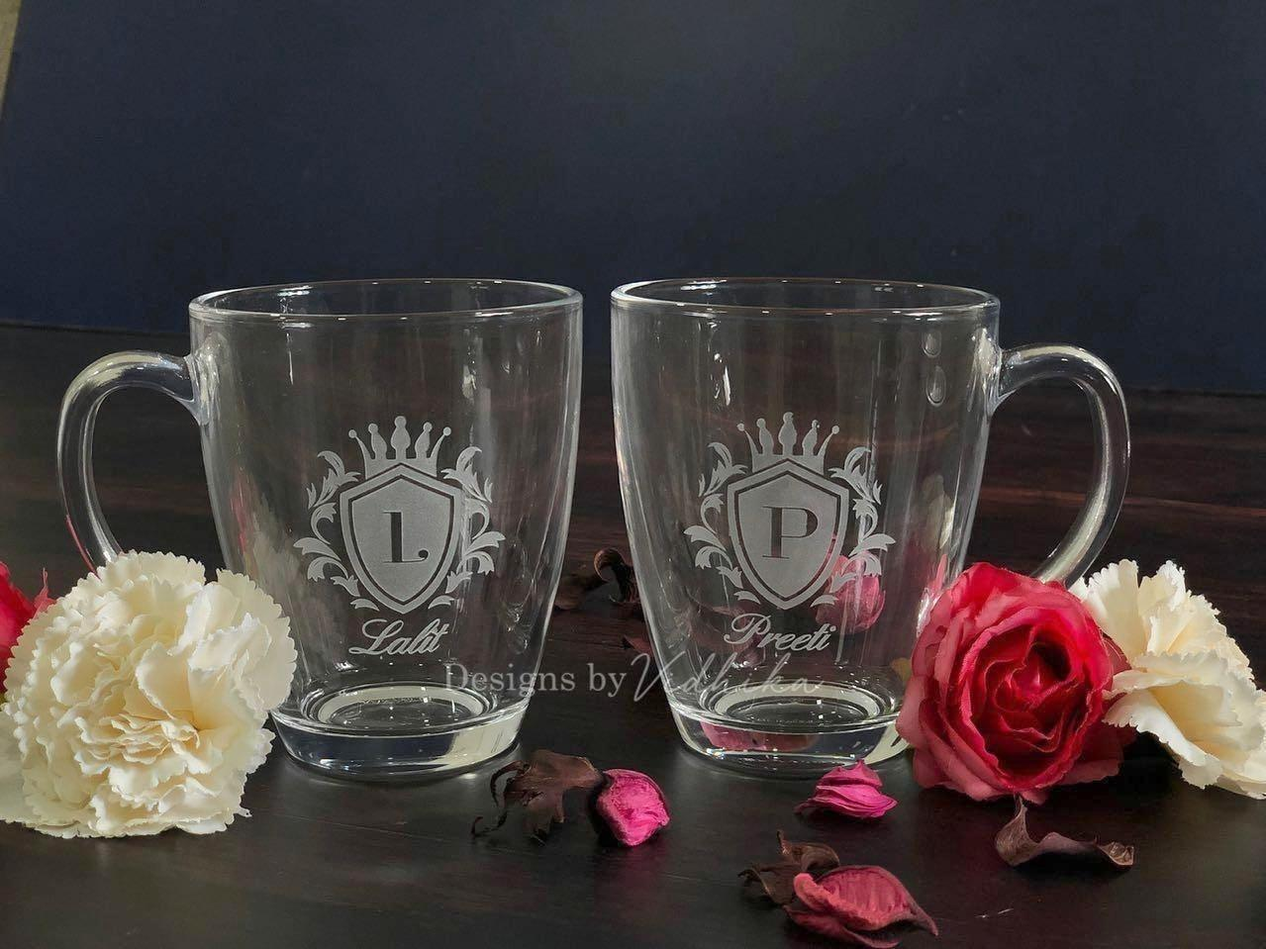glass-mug: (32, 252, 586, 796), (602, 254, 1140, 787)
